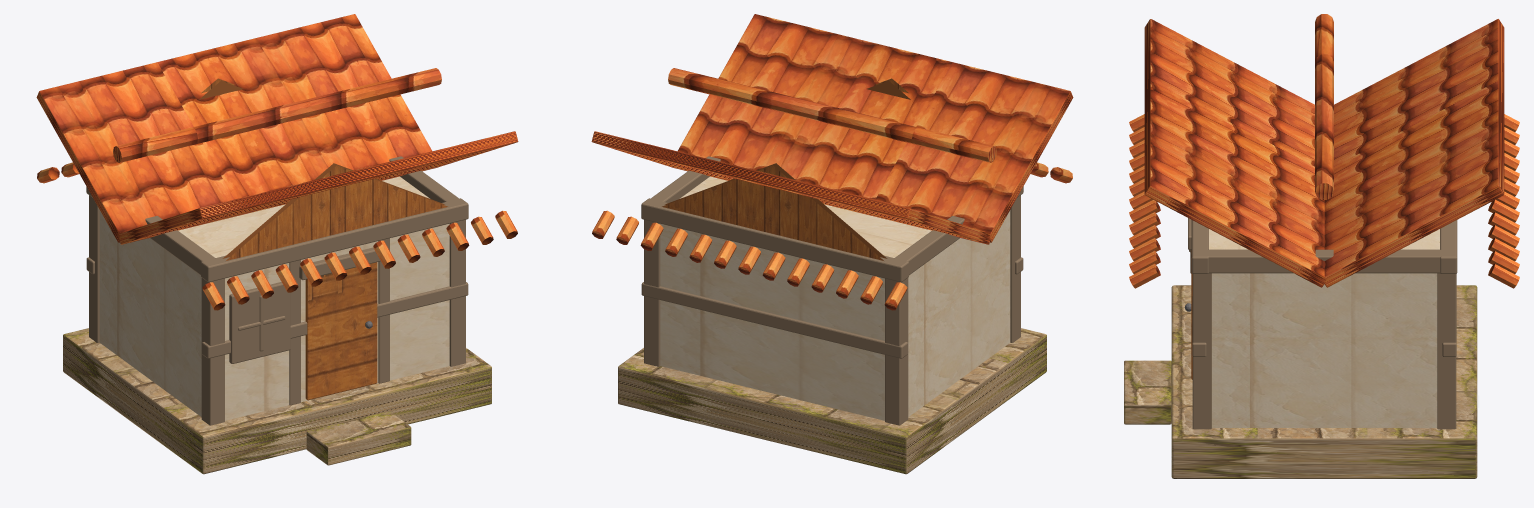
File: hut-town.glb
3 views of the same model, side by side, from view 1: azimuth 30°, elevation 25°; view 2: azimuth 150°, elevation 25°; view 3: azimuth 270°, elevation 25° (orthographic). The views are drawn at different scales.
Visible parts, largest first — view 1: roof.001, walls, found, door, gable, roof, ridge, plate, step, winframe, post, post.002 (+8 smaller); view 2: roof, walls, found, gable.002, roof.001, ridge, plate.001, rail.001, post.001, post.003, post, plateS (+2 smaller); view 3: walls, roof.001, roof, found, plateS.001, ridge, step, post.002, post.003, plate, plate.001.
Part boxes in pixels (left/top/right/bottom): roof.001: left=36, top=14, right=431, bottom=242; walls: left=99, top=176, right=449, bottom=420; found: left=63, top=328, right=491, bottom=474; door: left=305, top=262, right=377, bottom=400; gable: left=226, top=165, right=447, bottom=260; roof: left=118, top=131, right=518, bottom=244; ridge: left=113, top=68, right=441, bottom=162; plate: left=201, top=198, right=468, bottom=282; step: left=306, top=411, right=411, bottom=465; winframe: left=229, top=282, right=290, bottom=363; post: left=201, top=278, right=224, bottom=425; post.002: left=449, top=219, right=465, bottom=366; roof: left=678, top=14, right=1073, bottom=242; walls: left=660, top=176, right=1010, bottom=420; found: left=618, top=328, right=1046, bottom=474; gable.002: left=662, top=165, right=883, bottom=260; roof.001: left=591, top=131, right=991, bottom=244; ridge: left=668, top=68, right=996, bottom=162; plate.001: left=641, top=198, right=908, bottom=282; rail.001: left=641, top=282, right=907, bottom=358; post.001: left=885, top=278, right=908, bottom=425; post.003: left=644, top=219, right=660, bottom=366; post: left=1010, top=195, right=1020, bottom=342; plateS: left=889, top=216, right=964, bottom=275; walls: left=1209, top=229, right=1439, bottom=427; roof.001: left=1323, top=19, right=1504, bottom=287; roof: left=1144, top=19, right=1326, bottom=287; found: left=1171, top=285, right=1477, bottom=478; plateS.001: left=1195, top=249, right=1453, bottom=273; ridge: left=1315, top=14, right=1333, bottom=199; step: left=1124, top=360, right=1171, bottom=424; post.002: left=1192, top=273, right=1211, bottom=429; post.003: left=1437, top=273, right=1456, bottom=429; plate: left=1191, top=220, right=1208, bottom=273; plate.001: left=1440, top=220, right=1457, bottom=273.
Bounding box in the file's own units: 4.6 × 3.52 × 4.15.
10 materials, 7 textured.
